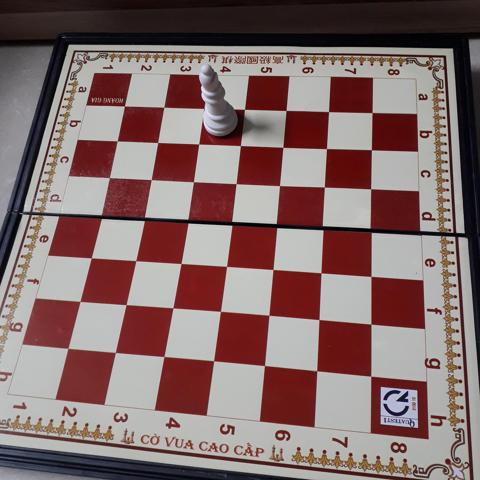xcorner: (320, 104, 338, 122), (277, 103, 295, 121), (115, 98, 133, 116), (231, 137, 249, 155), (189, 135, 207, 153), (107, 132, 125, 150), (317, 178, 335, 196), (271, 176, 289, 194), (183, 172, 201, 190), (99, 168, 117, 186), (363, 222, 381, 240), (315, 219, 333, 237), (90, 206, 108, 224), (363, 267, 381, 285), (313, 263, 331, 281), (264, 260, 282, 278), (170, 253, 188, 271), (80, 247, 98, 265), (363, 315, 381, 333), (70, 291, 88, 309), (155, 347, 173, 365), (59, 338, 77, 356), (364, 106, 382, 123), (236, 102, 253, 120), (364, 142, 381, 160), (319, 140, 336, 158), (274, 139, 292, 156), (227, 174, 244, 192), (141, 170, 158, 188), (222, 214, 239, 232), (177, 211, 194, 229), (133, 209, 151, 226), (216, 257, 234, 274), (125, 250, 142, 268), (311, 311, 329, 328), (260, 307, 278, 324), (363, 367, 380, 385), (256, 357, 274, 374), (205, 352, 222, 370), (106, 343, 124, 360), (195, 101, 212, 118), (155, 100, 172, 117), (148, 134, 165, 151), (364, 181, 381, 198), (268, 217, 285, 234), (211, 303, 228, 320), (163, 299, 180, 316), (116, 295, 133, 312), (309, 362, 326, 379)
